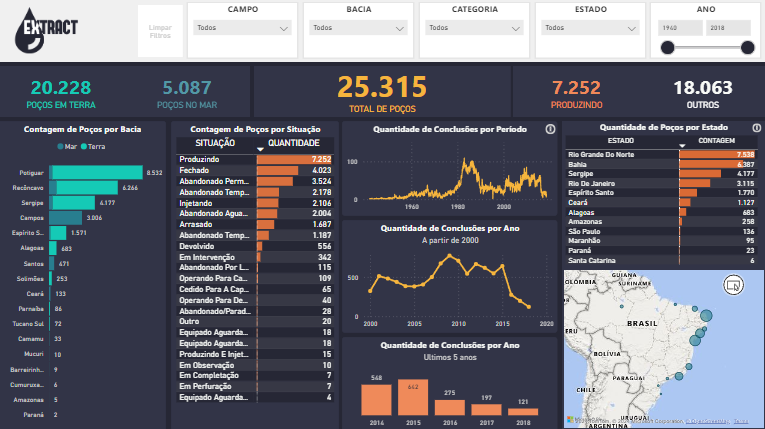

Layout of this report page (visuals, bound fields, positions):
{"tool":"powerbi","page":{"name":"Pagina Inicial","canvas":[1280,720],"ordinal":0},"visuals":[{"type":"shape","box":[860,111.2,420,85],"z":0},{"type":"shape","box":[15,111.2,405,85],"z":1000},{"type":"shape","box":[0,0,1280,105],"z":2000},{"type":"map","title":"Quantidade de Poços por Estado","fields":{"Category":["ft_pocos.DS_ESTADO"],"Size":["CountNonNull(ft_pocos.DS_ESTADO)"]},"box":[940,447.5,340,272.5],"z":3000},{"type":"barChart","title":"Contagem de Poços por Bacia","fields":{"Category":["ft_pocos.DS_BACIA"],"Y":["Tabela.CONTAGEM"],"Series":["ft_pocos.DS_TERRA_MAR"]},"box":[0,202.5,280,517.5],"z":4000},{"type":"lineChart","title":"Quantidade de Conclusões por Ano","fields":{"Category":["dm_tempo.nr_ano"],"Y":["Medidas.CONTAGEM"]},"box":[573.8,367.5,358.8,187.5],"z":5000},{"type":"columnChart","title":"Quantidade de Conclusões por Ano","fields":{"Category":["dm_tempo.nr_ano"],"Y":["Tabela.CONTAGEM"]},"box":[573.8,562.5,358.8,157.5],"z":6000},{"type":"card","fields":{"Values":["Tabela.PRODUZINDO"]},"box":[858.8,111.2,211.2,85],"z":7000},{"type":"tableEx","title":"Contagem de Poços por Situação","fields":{"Values":["ft_pocos.DS_SITUACAO","Tabela.CONTAGEM"]},"box":[287.5,202.5,280,517.5],"z":8000},{"type":"card","fields":{"Values":["Tabela.CONTAGEM"]},"box":[426.2,111.2,427.5,85],"z":9000},{"type":"card","fields":{"Values":["Sum(ft_pocos.PM_TERRA)"]},"box":[0,111.2,210,85],"z":10000},{"type":"card","fields":{"Values":["Sum(ft_pocos.PM_MAR)"]},"box":[210,111.2,210,85],"z":11000},{"type":"slicer","title":"CAMPO","fields":{"Values":["ft_pocos.DS_CAMPO"]},"box":[315,5,185,93.8],"z":12000},{"type":"slicer","title":"BACIA","fields":{"Values":["ft_pocos.DS_BACIA"]},"box":[508.1,5,185,93.8],"z":13000},{"type":"slicer","title":"CATEGORIA","fields":{"Values":["ft_pocos.DS_CATEGORIA"]},"box":[701.2,5,185,93.8],"z":14000},{"type":"slicer","title":"ESTADO","fields":{"Values":["ft_pocos.DS_ESTADO"]},"box":[894.4,5,185,93.8],"z":15000},{"type":"slicer","title":"ANO","fields":{"Values":["dm_tempo.nr_ano"]},"box":[1087.5,5,185,93.8],"z":16000},{"type":"tableEx","title":"Quantidade de Poços por Estado","fields":{"Values":["ft_pocos.DS_ESTADO","Tabela.CONTAGEM"]},"box":[940,202.5,340,245],"z":17000},{"type":"card","fields":{"Values":["Tabela.OUTROS"]},"box":[1070,111.2,210,85],"z":18000},{"type":"lineChart","title":"Quantidade de Conclusões por Período","fields":{"Y":["Medidas.CONTAGEM"],"Category":["dm_tempo.dt_ref_resumo"]},"box":[573.8,202.5,358.8,157.5],"z":19000},{"type":"image","box":[15.3,6.4,187.4,90.5],"z":20000},{"type":"actionButton","box":[1253.2,204,26.8,22.9],"z":22000},{"type":"actionButton","box":[907.5,203.8,25,26.2],"z":23000},{"type":"actionButton","box":[231.2,7.5,77.5,90],"z":24000}]}

Visuals, with their boxes in screenshot pixels (x1, y1, x2, y2), scaled from the page's 1280x720 canvas onto the 765x429 screenshot:
shape: (x1=514, y1=66, x2=764, y2=117)
shape: (x1=9, y1=66, x2=251, y2=117)
shape: (x1=0, y1=0, x2=764, y2=63)
"Quantidade de Poços por Estado" map: (x1=562, y1=267, x2=764, y2=428)
"Contagem de Poços por Bacia" barChart: (x1=0, y1=121, x2=167, y2=428)
"Quantidade de Conclusões por Ano" lineChart: (x1=343, y1=219, x2=557, y2=331)
"Quantidade de Conclusões por Ano" columnChart: (x1=343, y1=335, x2=557, y2=428)
card - Tabela.PRODUZINDO: (x1=513, y1=66, x2=639, y2=117)
"Contagem de Poços por Situação" tableEx: (x1=172, y1=121, x2=339, y2=428)
card - Tabela.CONTAGEM: (x1=255, y1=66, x2=510, y2=117)
card - Sum(ft_pocos.PM_TERRA): (x1=0, y1=66, x2=126, y2=117)
card - Sum(ft_pocos.PM_MAR): (x1=126, y1=66, x2=251, y2=117)
"CAMPO" slicer: (x1=188, y1=3, x2=299, y2=59)
"BACIA" slicer: (x1=304, y1=3, x2=414, y2=59)
"CATEGORIA" slicer: (x1=419, y1=3, x2=530, y2=59)
"ESTADO" slicer: (x1=535, y1=3, x2=645, y2=59)
"ANO" slicer: (x1=650, y1=3, x2=761, y2=59)
"Quantidade de Poços por Estado" tableEx: (x1=562, y1=121, x2=764, y2=267)
card - Tabela.OUTROS: (x1=639, y1=66, x2=764, y2=117)
"Quantidade de Conclusões por Período" lineChart: (x1=343, y1=121, x2=557, y2=214)
image: (x1=9, y1=4, x2=121, y2=58)
actionButton: (x1=749, y1=122, x2=764, y2=135)
actionButton: (x1=542, y1=121, x2=557, y2=137)
actionButton: (x1=138, y1=4, x2=184, y2=58)
